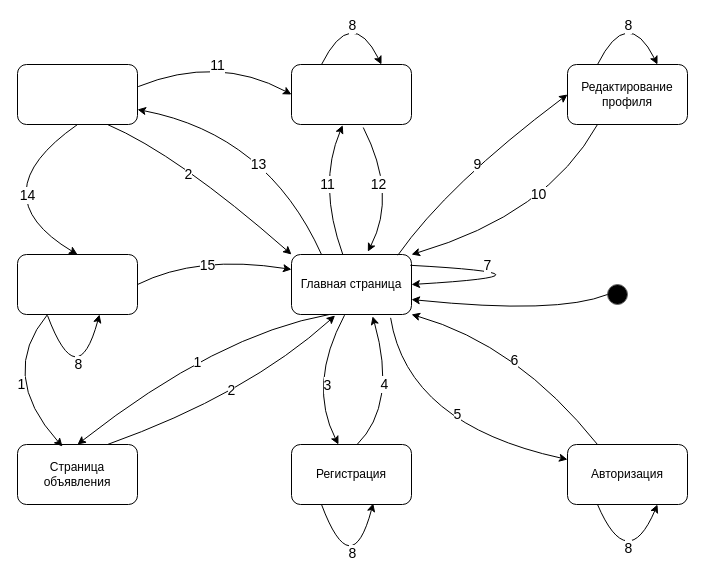
Image size: 705x580. Some labels were removed from this diagram. Each missing label, with the centre of its shape:
"Мои объявления" goes at [77,94].
"Редактирование объявление" goes at [77,284].
"Создать объявление" goes at [351,94].
